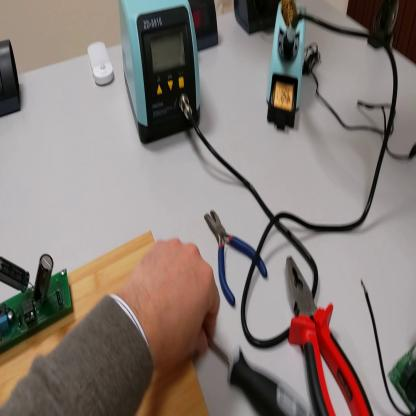hand: (119, 233, 218, 365)
high voltage board: (1, 254, 75, 356)
low voltage board: (362, 278, 416, 416)
pliers: (286, 255, 375, 416), (206, 210, 271, 309)
screwdriver-: (207, 336, 310, 415)
socket: (234, 2, 281, 37), (191, 2, 219, 49)
welder base: (267, 2, 308, 134)
welder probe tip: (285, 11, 304, 63)
welder station: (119, 2, 205, 148)
working area: (2, 227, 210, 416)
